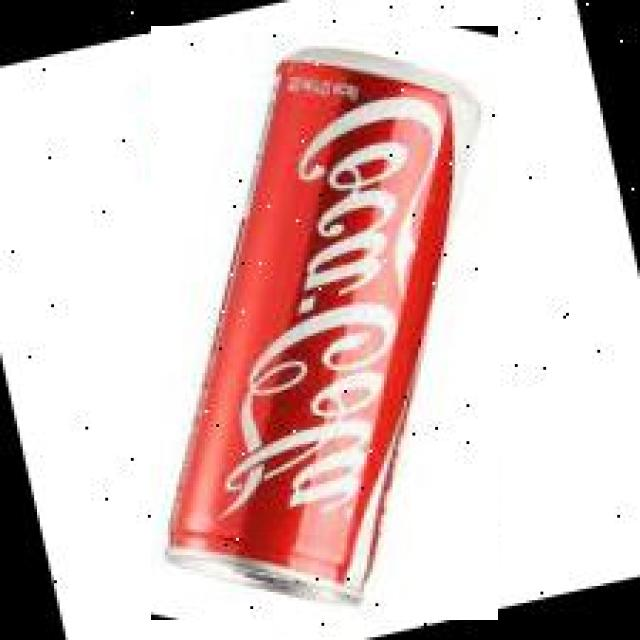coca-cola: (151, 26, 498, 620)
